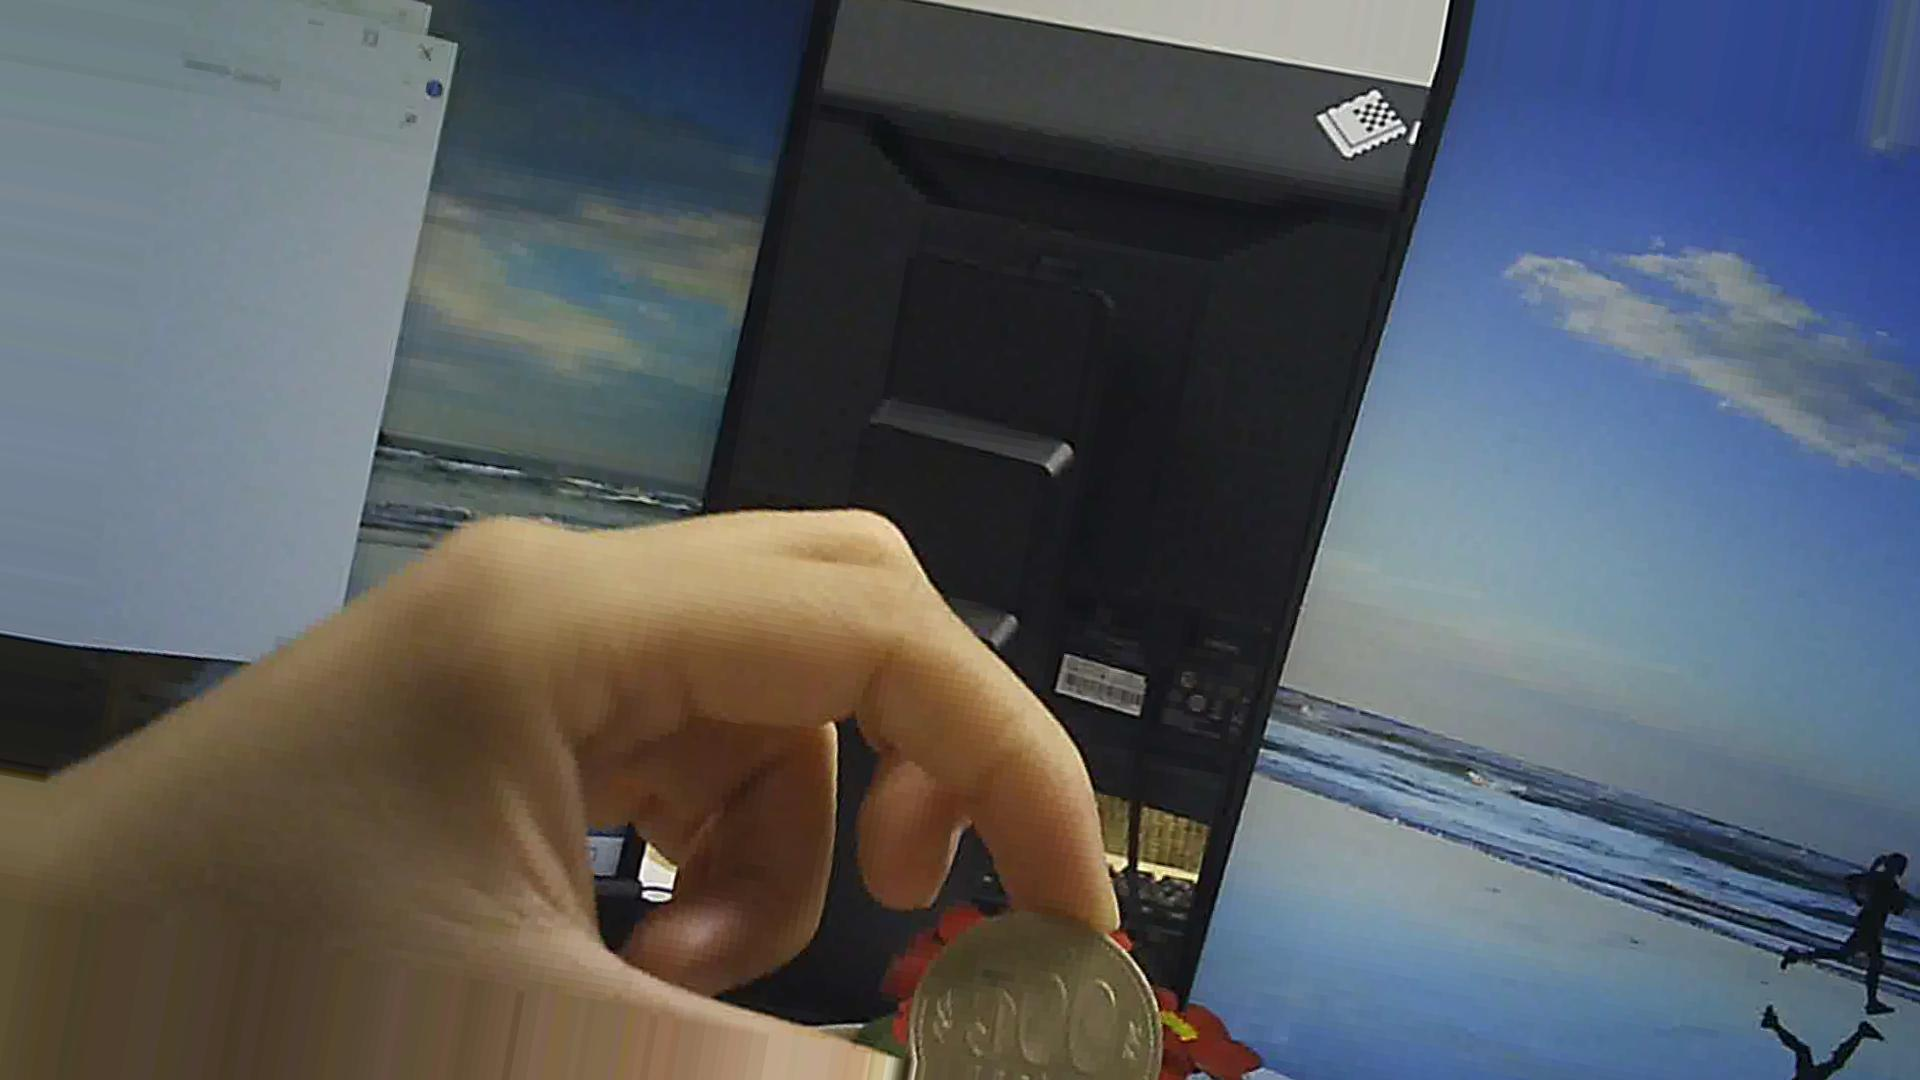500 Yen: (905, 909, 1164, 1079)
